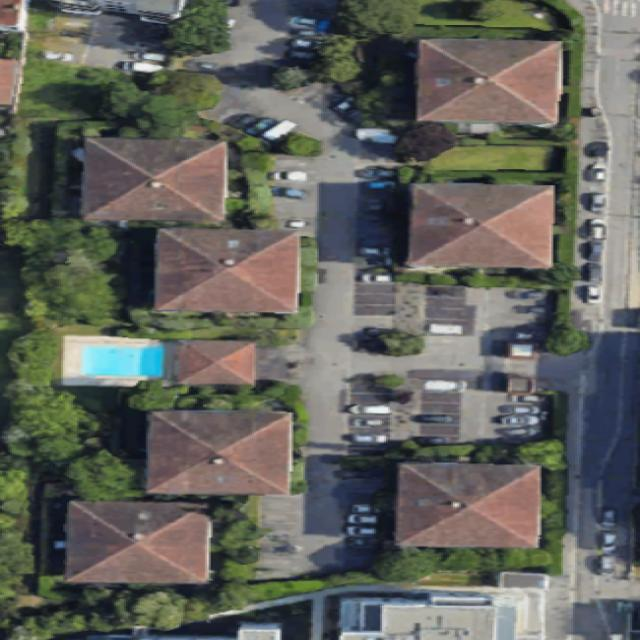maison: (395, 463, 541, 550), (148, 409, 294, 495), (82, 142, 232, 223), (408, 186, 552, 269), (415, 41, 559, 123), (159, 230, 298, 313), (67, 504, 209, 584)
